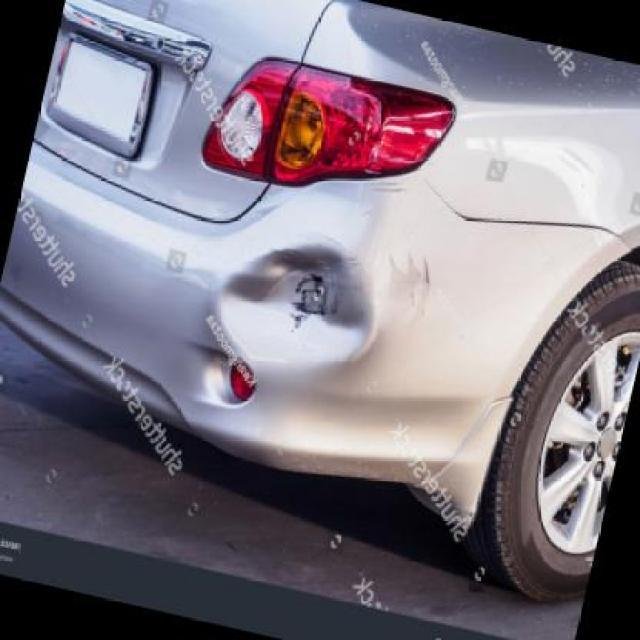dent: (203, 234, 390, 373)
